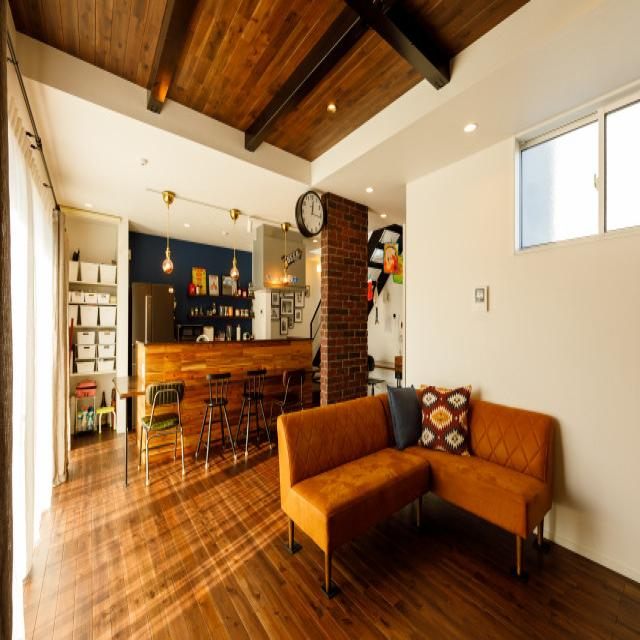vintage chair: (140, 385, 186, 476), (200, 373, 238, 468), (241, 366, 277, 459)
vintage sofa: (277, 384, 559, 587)
